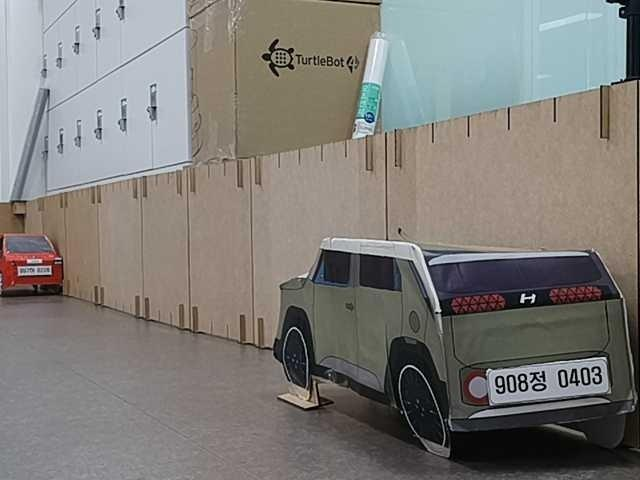car: (270, 232, 639, 458), (1, 230, 69, 297)
id: (482, 356, 615, 405), (16, 263, 55, 279)
